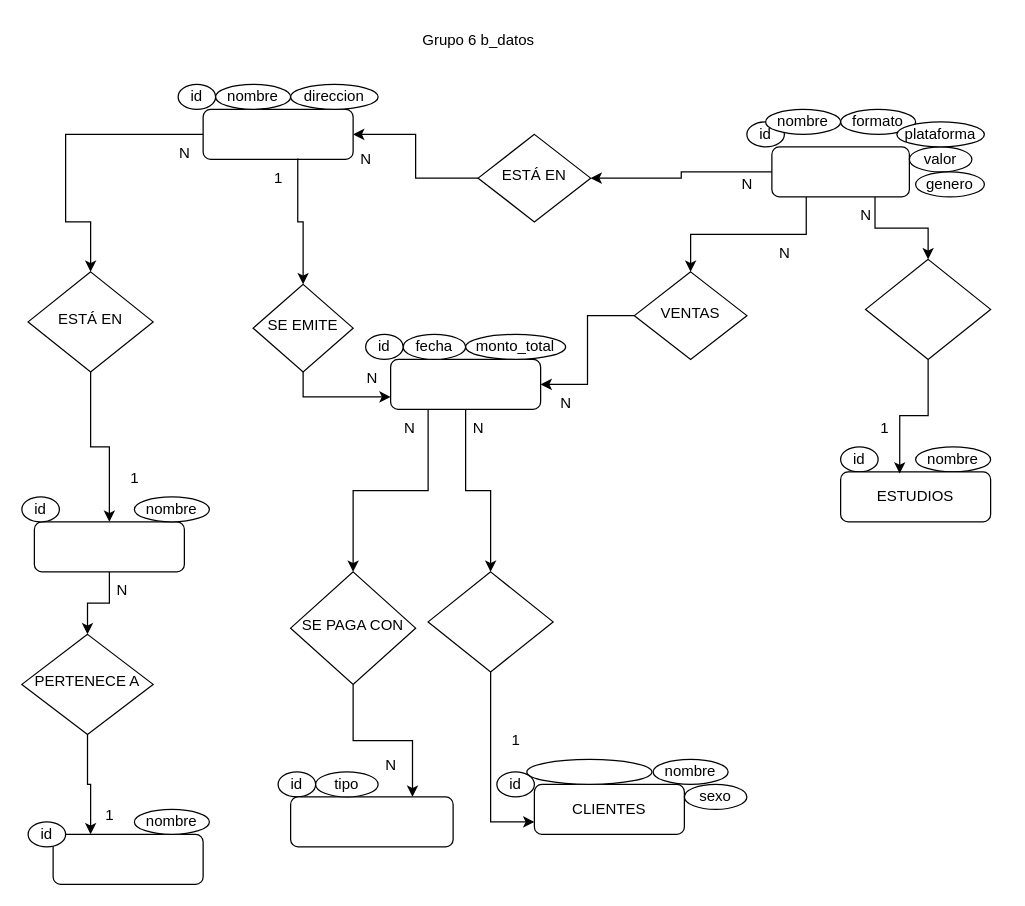
The diagram is 1025 pixels wide and 906 high, and some of its shapes have lost their labels. Each missing label, with the centre of its shape:
BOLETAS: the point at 465,383
COMPRAS: the point at 490,621
COMUNAS: the point at 108,546
CREADO POR: the point at 927,308
f_nacimiento: the point at 589,771
METODOS DE PAGO: the point at 371,821
REGIONES: the point at 127,858
SUCURSALES: the point at 277,133
VIDEOJUEGOS: the point at 840,171
